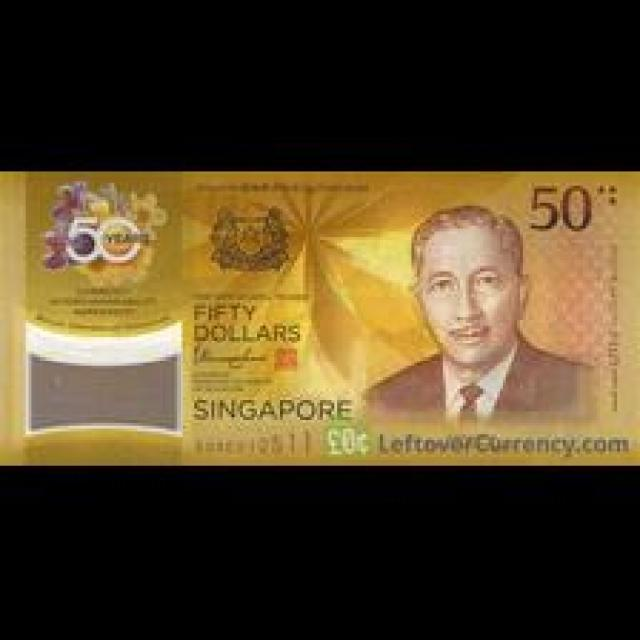banknote: (0, 166, 637, 466), (187, 296, 313, 349), (517, 180, 603, 245), (62, 209, 146, 270)
